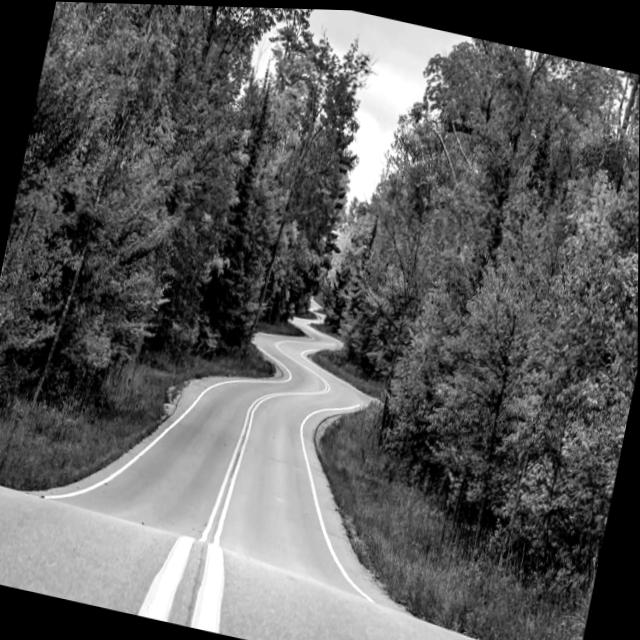cleat: (117, 251, 624, 640)
